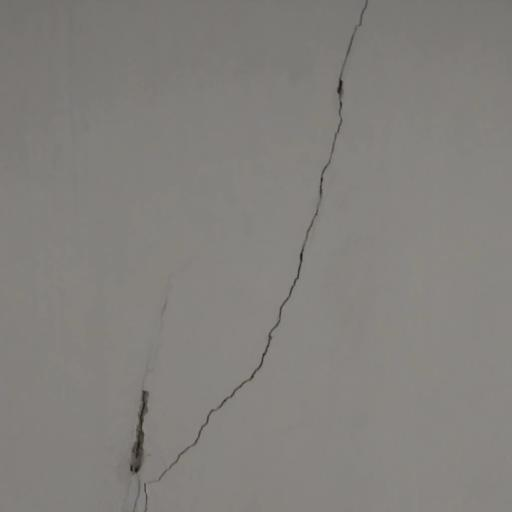minor_crack: (118, 0, 369, 512)
